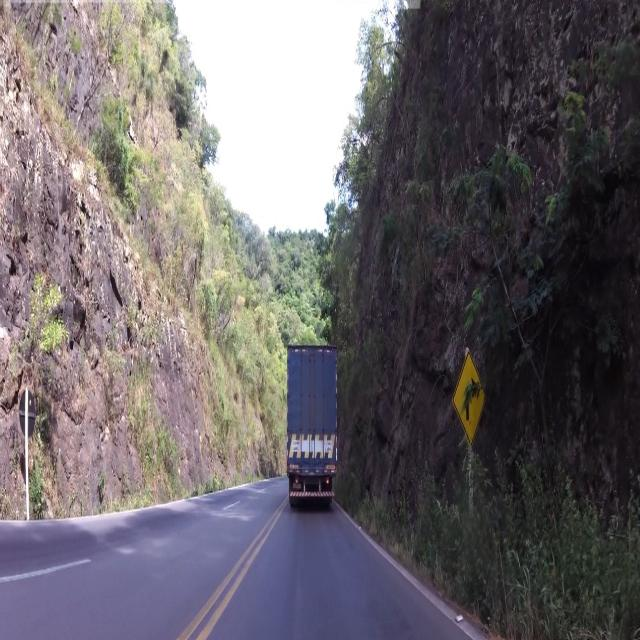A-1b: (450, 345, 491, 457)
